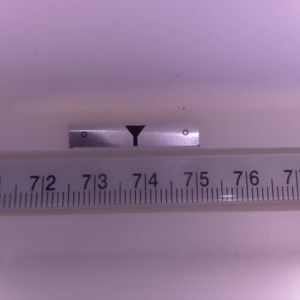2: (45, 175, 56, 191)
3: (97, 173, 107, 189)
4: (147, 172, 158, 188)
5: (199, 171, 208, 187)
6: (248, 170, 258, 186)
7: (80, 174, 91, 190), (29, 175, 39, 192), (132, 173, 142, 189), (182, 171, 192, 187), (231, 170, 241, 186), (283, 169, 293, 185)
finger: (123, 125, 146, 147)
